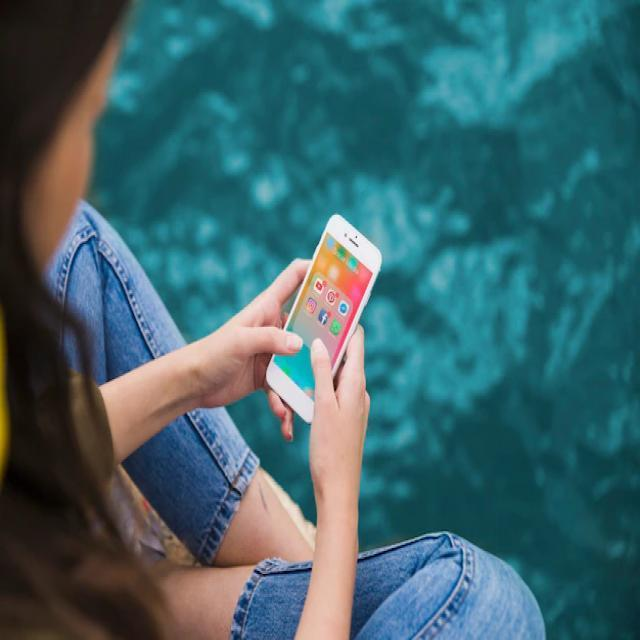Phone: (264, 210, 386, 425)
